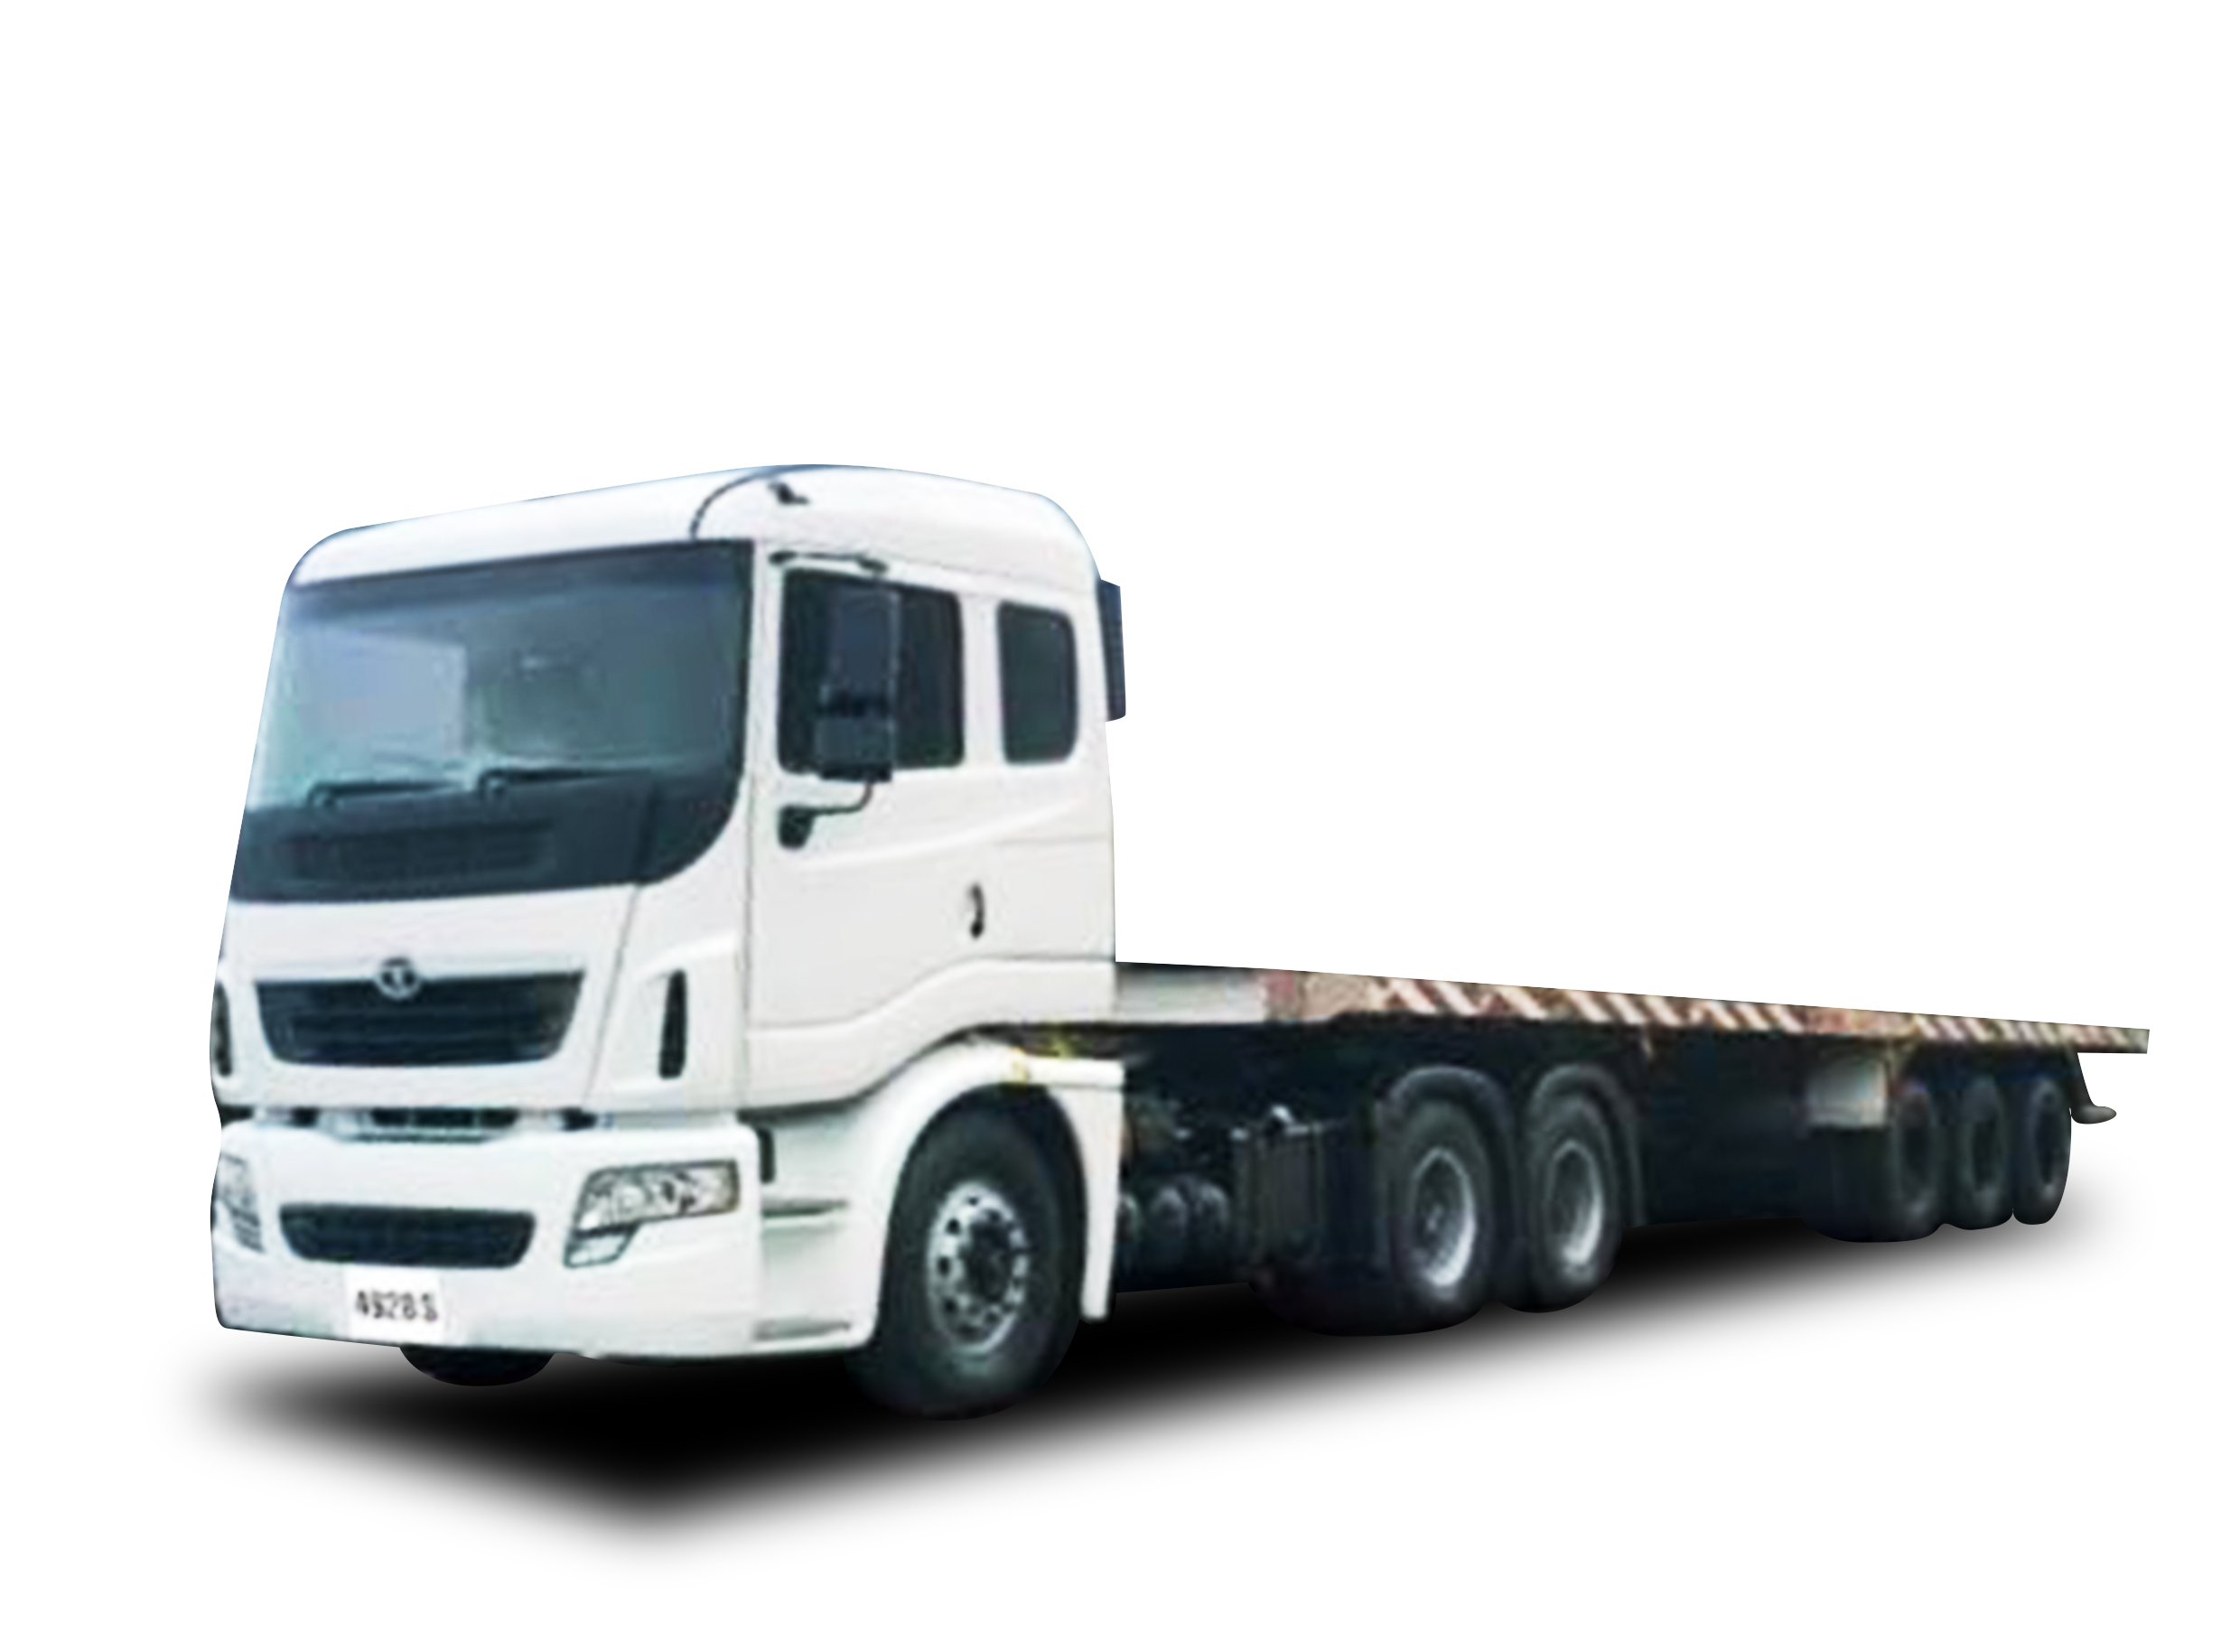truck: (195, 463, 2162, 1426)
